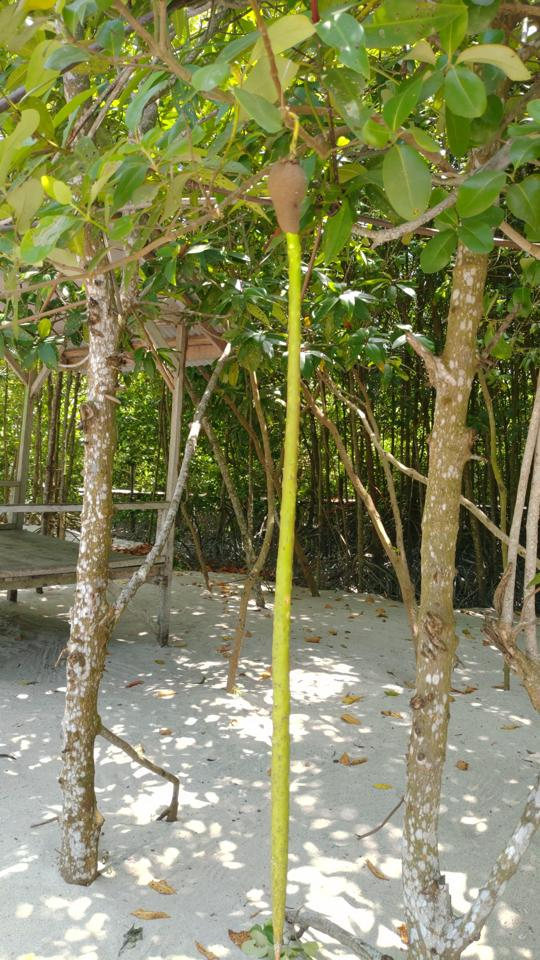mentah: (254, 152, 319, 949)
